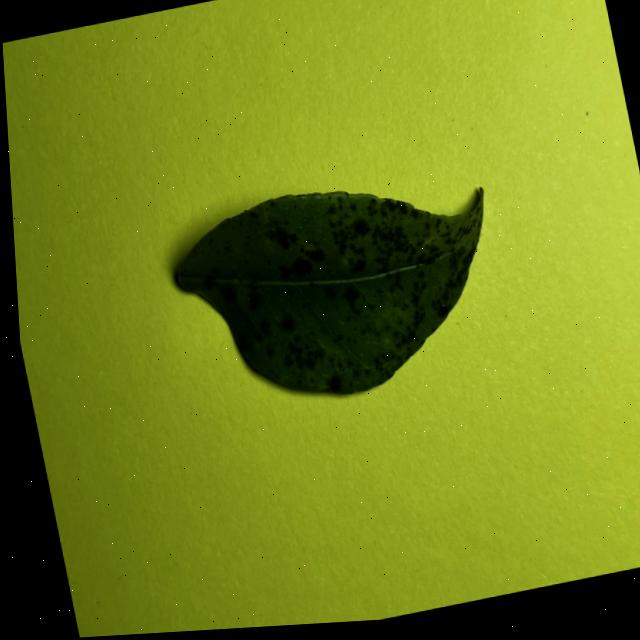sooty_mold: (178, 187, 483, 393)
